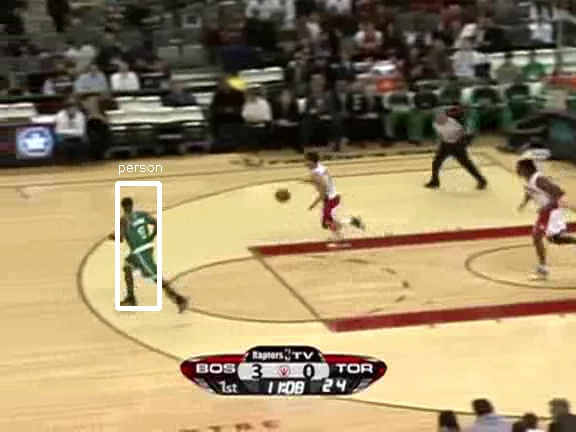person: (123, 205, 157, 286), (122, 205, 156, 286), (124, 205, 158, 286), (123, 204, 157, 285), (123, 206, 157, 287)
target_negative: (118, 119, 423, 293), (137, 136, 324, 290), (267, 311, 512, 403), (497, 201, 526, 264), (522, 243, 532, 358), (512, 394, 548, 419)
